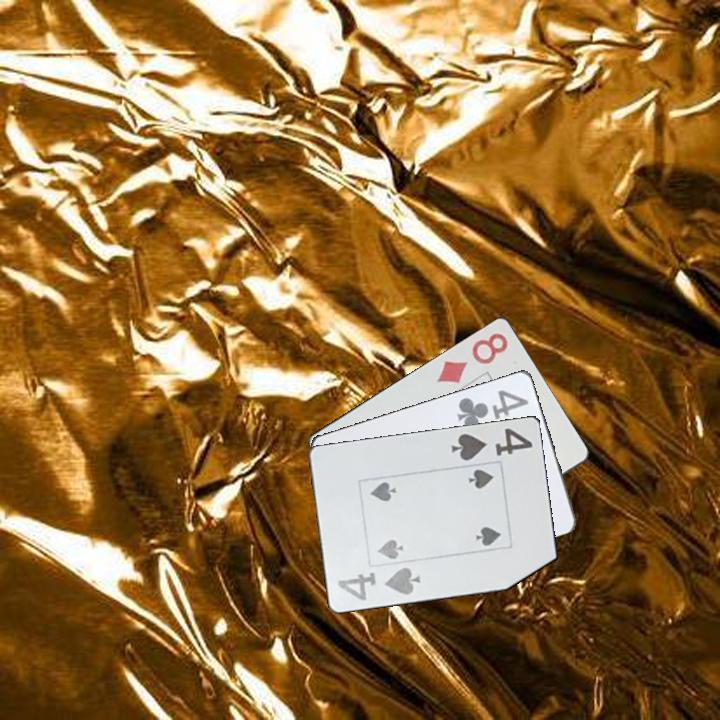4c: (453, 386, 532, 432)
4s: (334, 563, 422, 603), (446, 424, 536, 463)
8d: (433, 328, 512, 386)
